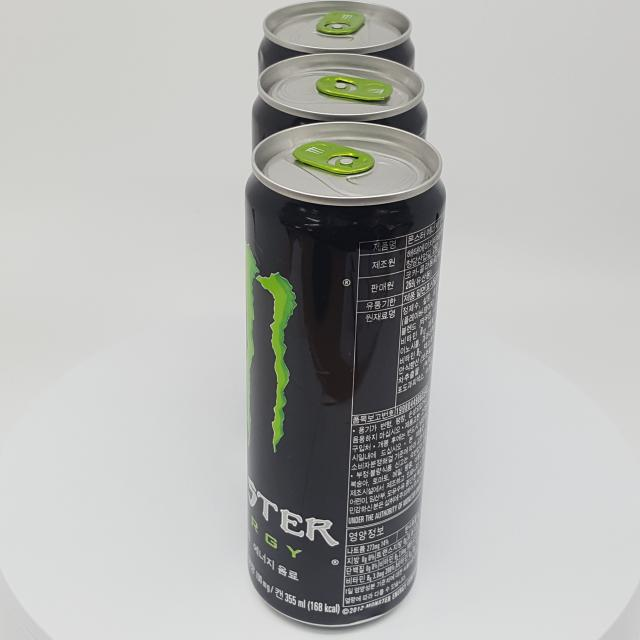--------355ML: (245, 122, 446, 627)
